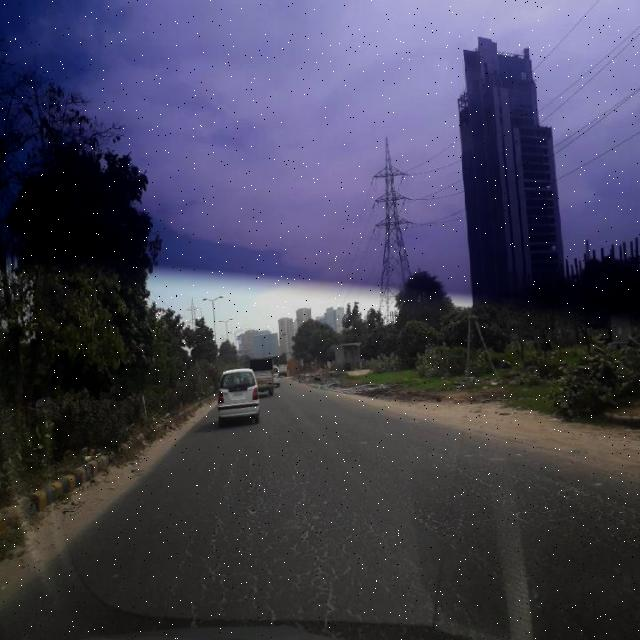D20: (131, 437, 638, 632)
